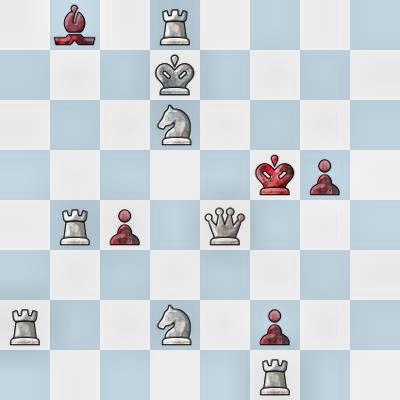black-bishop: (50, 0, 100, 50)
black-king: (250, 150, 300, 200)
black-pawn: (300, 150, 350, 200), (100, 200, 150, 250), (250, 300, 300, 350)
white-king: (150, 50, 200, 100)
white-knight: (150, 100, 200, 150), (150, 300, 200, 350)
white-queen: (200, 200, 250, 250)
white-rook: (150, 0, 200, 50), (50, 200, 100, 250), (0, 300, 50, 350), (250, 350, 300, 400)
